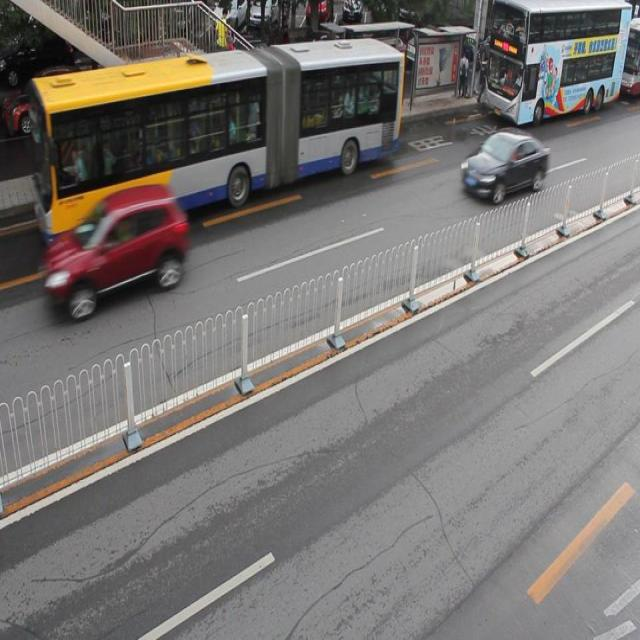car: (50, 185, 187, 319), (460, 127, 547, 205), (1, 66, 97, 136), (105, 57, 189, 124), (205, 35, 275, 102), (299, 37, 361, 92)
van: (32, 38, 403, 242), (482, 1, 631, 129)
